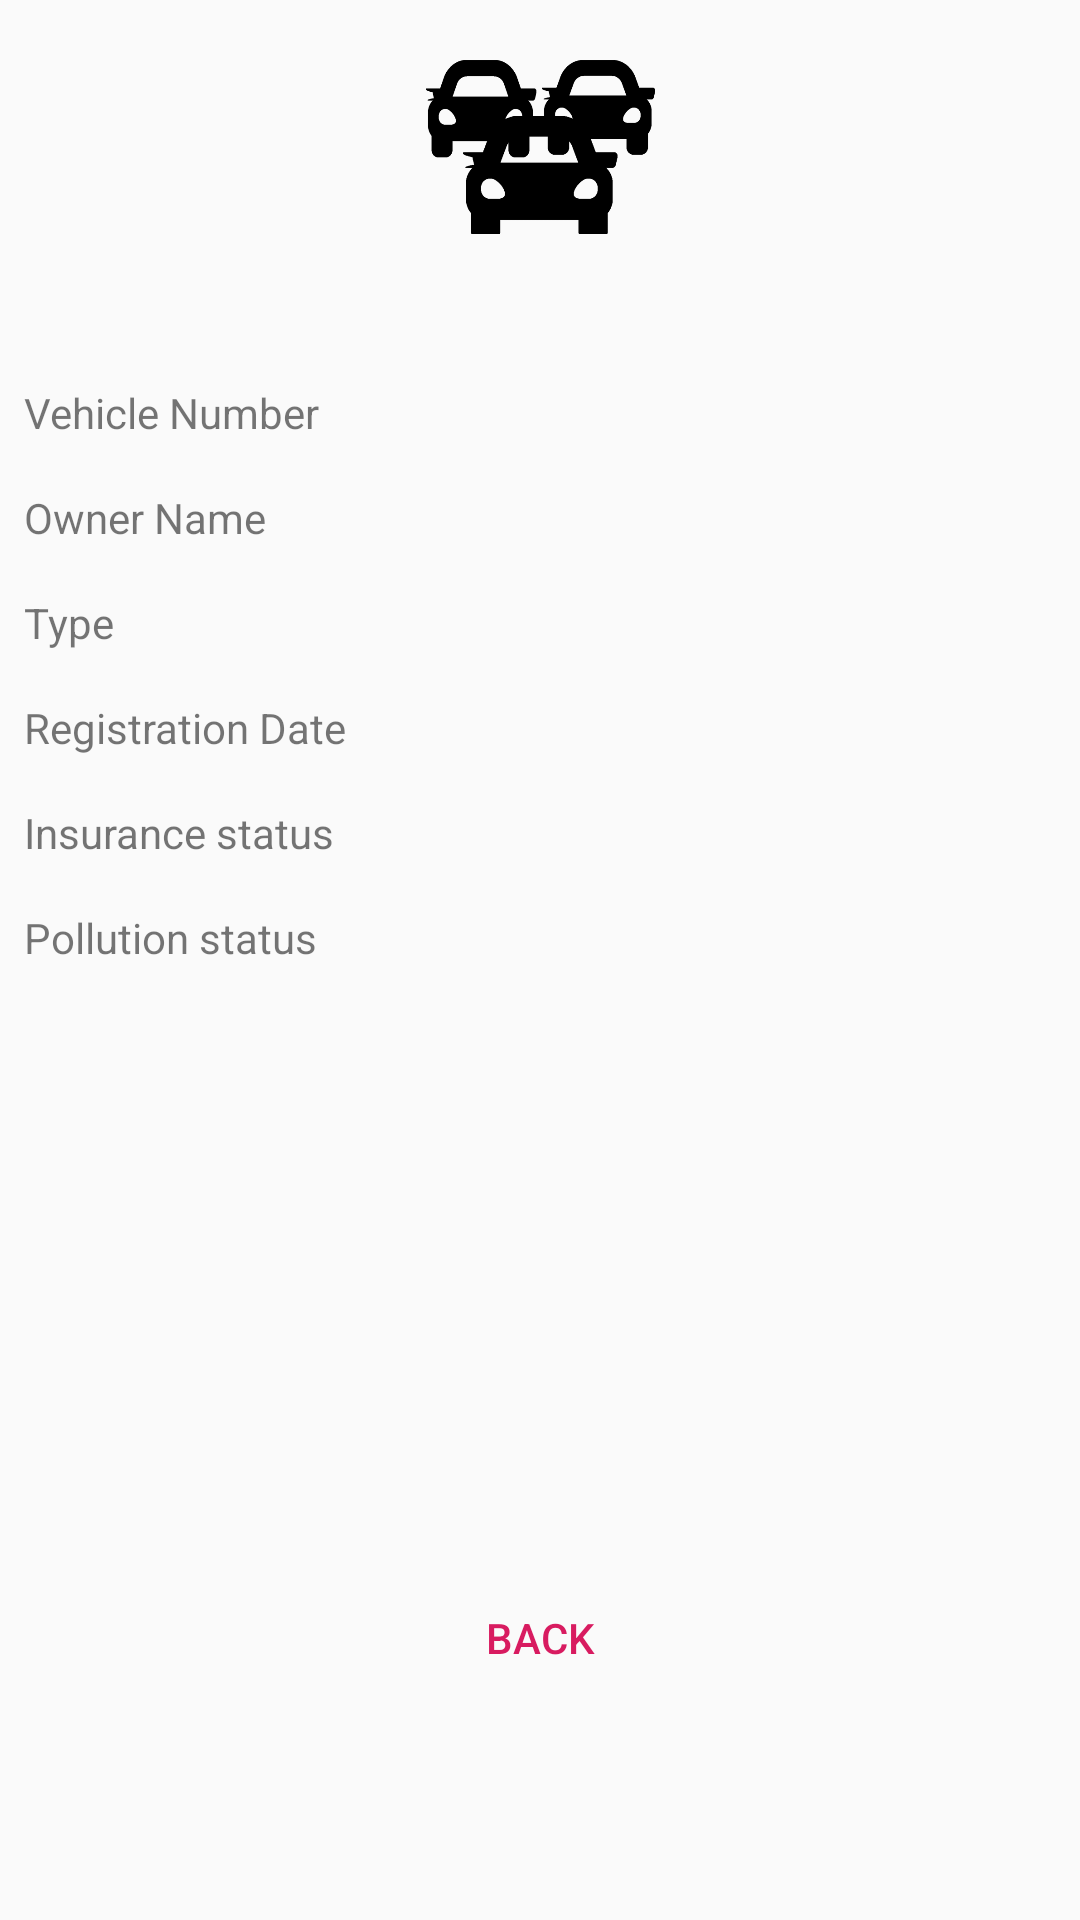

Locate icon controls on the screen. Image size 1080x1920, boxes as (x1, y1, x2, y2).
group of cars: (426, 60, 655, 234)
